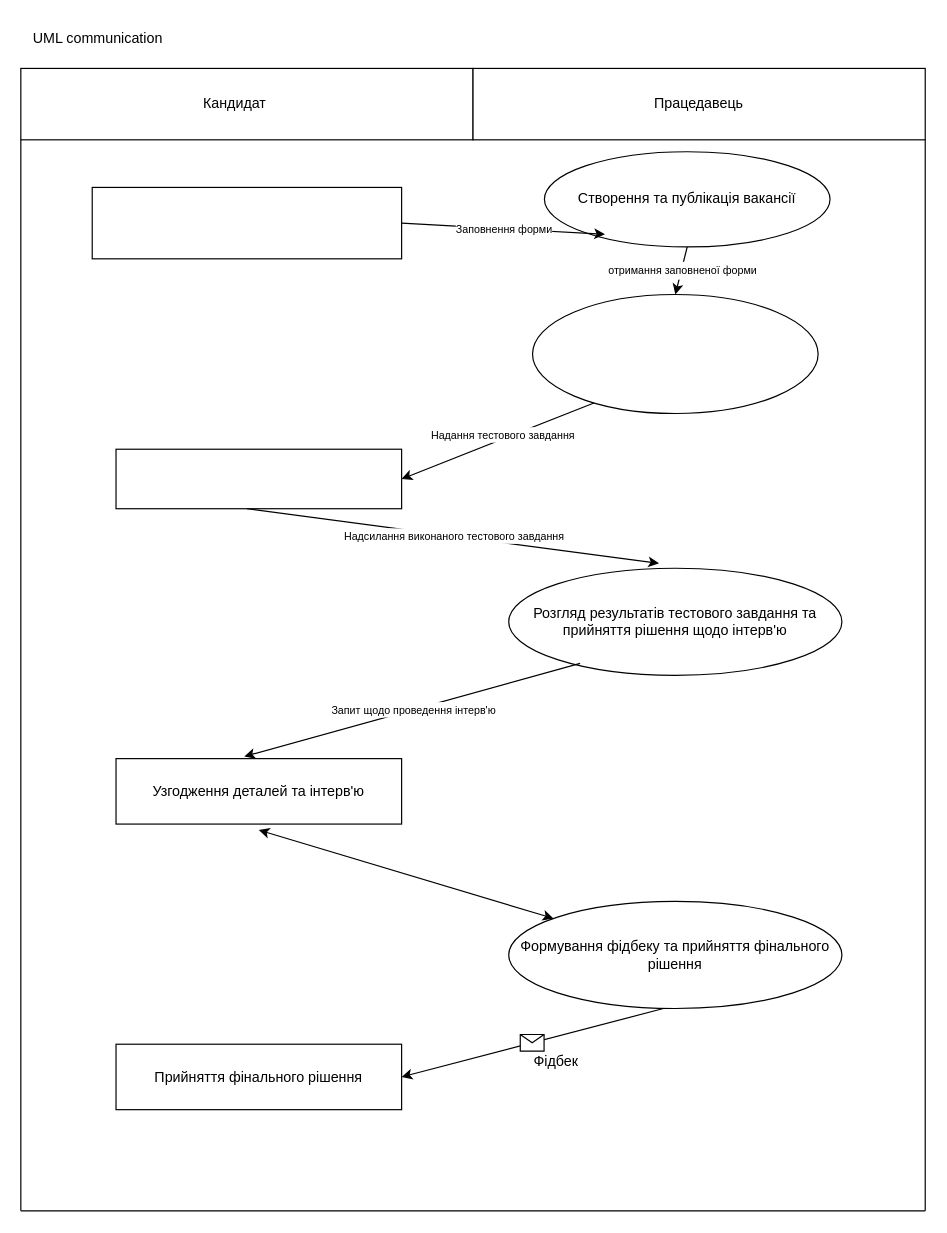
The diagram is 947 pixels wide and 1233 high, and some of its shapes have lost their labels. Each missing label, with the box of its shape:
Виконання тестового завдання: (115, 448, 402, 509)
Подається на вакансію: (91, 186, 402, 259)
Розгляд заповненої форми та кандидата: (531, 293, 818, 414)
